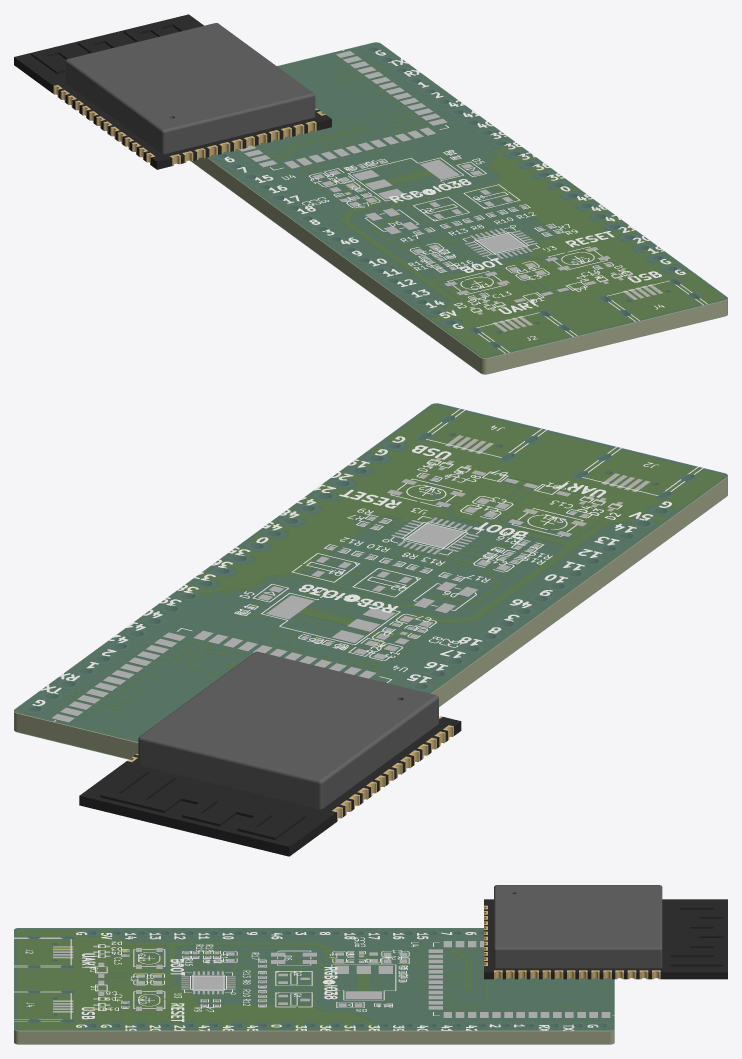
The model's file is ESP32-S3-DevKitC-1_V1.1-outline-test.glb.
3 renders of one model, top to bottom at view 1: azimuth 30°, elevation 25°; view 2: azimuth 150°, elevation 25°; view 3: azimuth 270°, elevation 25°, orthographic. The views are drawn at different scales.
Visible parts, largest first — view 1: =>[0:1:1:9], =>[0:1:1:11], =>[0:1:1:3], =>[0:1:1:4], =>[0:1:1:5], =>[0:1:1:7], =>[0:1:1:10]; view 2: =>[0:1:1:9], =>[0:1:1:3], =>[0:1:1:11], =>[0:1:1:4], =>[0:1:1:5], =>[0:1:1:7]; view 3: =>[0:1:1:9], =>[0:1:1:11], =>[0:1:1:3], =>[0:1:1:4], =>[0:1:1:5], =>[0:1:1:7], =>[0:1:1:10].
Part boxes in pixels (x1,y1,x2,y2): =>[0:1:1:9]: (208,42,727,358); =>[0:1:1:11]: (192,43,727,373); =>[0:1:1:3]: (14,14,331,169); =>[0:1:1:4]: (254,59,723,356); =>[0:1:1:5]: (212,46,701,348); =>[0:1:1:7]: (224,50,707,353); =>[0:1:1:10]: (190,161,727,374); =>[0:1:1:9]: (14,403,727,742); =>[0:1:1:3]: (79,651,461,856); =>[0:1:1:11]: (14,404,727,759); =>[0:1:1:4]: (58,406,723,734); =>[0:1:1:5]: (23,415,696,722); =>[0:1:1:7]: (32,408,703,721); =>[0:1:1:9]: (14,928,614,1030); =>[0:1:1:11]: (14,929,614,1044); =>[0:1:1:3]: (484,885,727,979); =>[0:1:1:4]: (18,929,593,1029); =>[0:1:1:5]: (26,930,610,1028); =>[0:1:1:7]: (14,932,614,1030); =>[0:1:1:10]: (14,1043,614,1044).
Size of the model in its own units: 0.0307 by 0.00476 by 0.0746.
